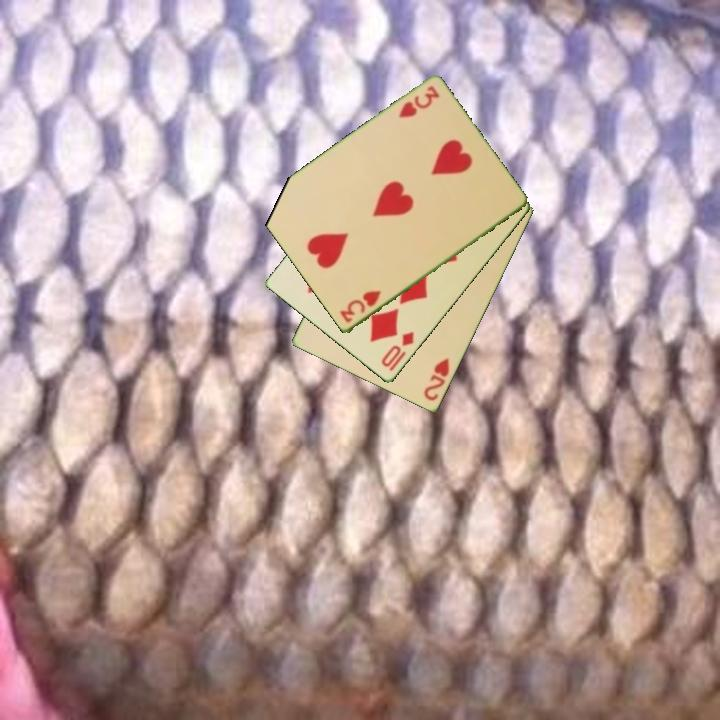10d: (378, 328, 417, 371)
2h: (420, 354, 452, 404)
3h: (336, 287, 384, 326), (395, 82, 442, 121)
